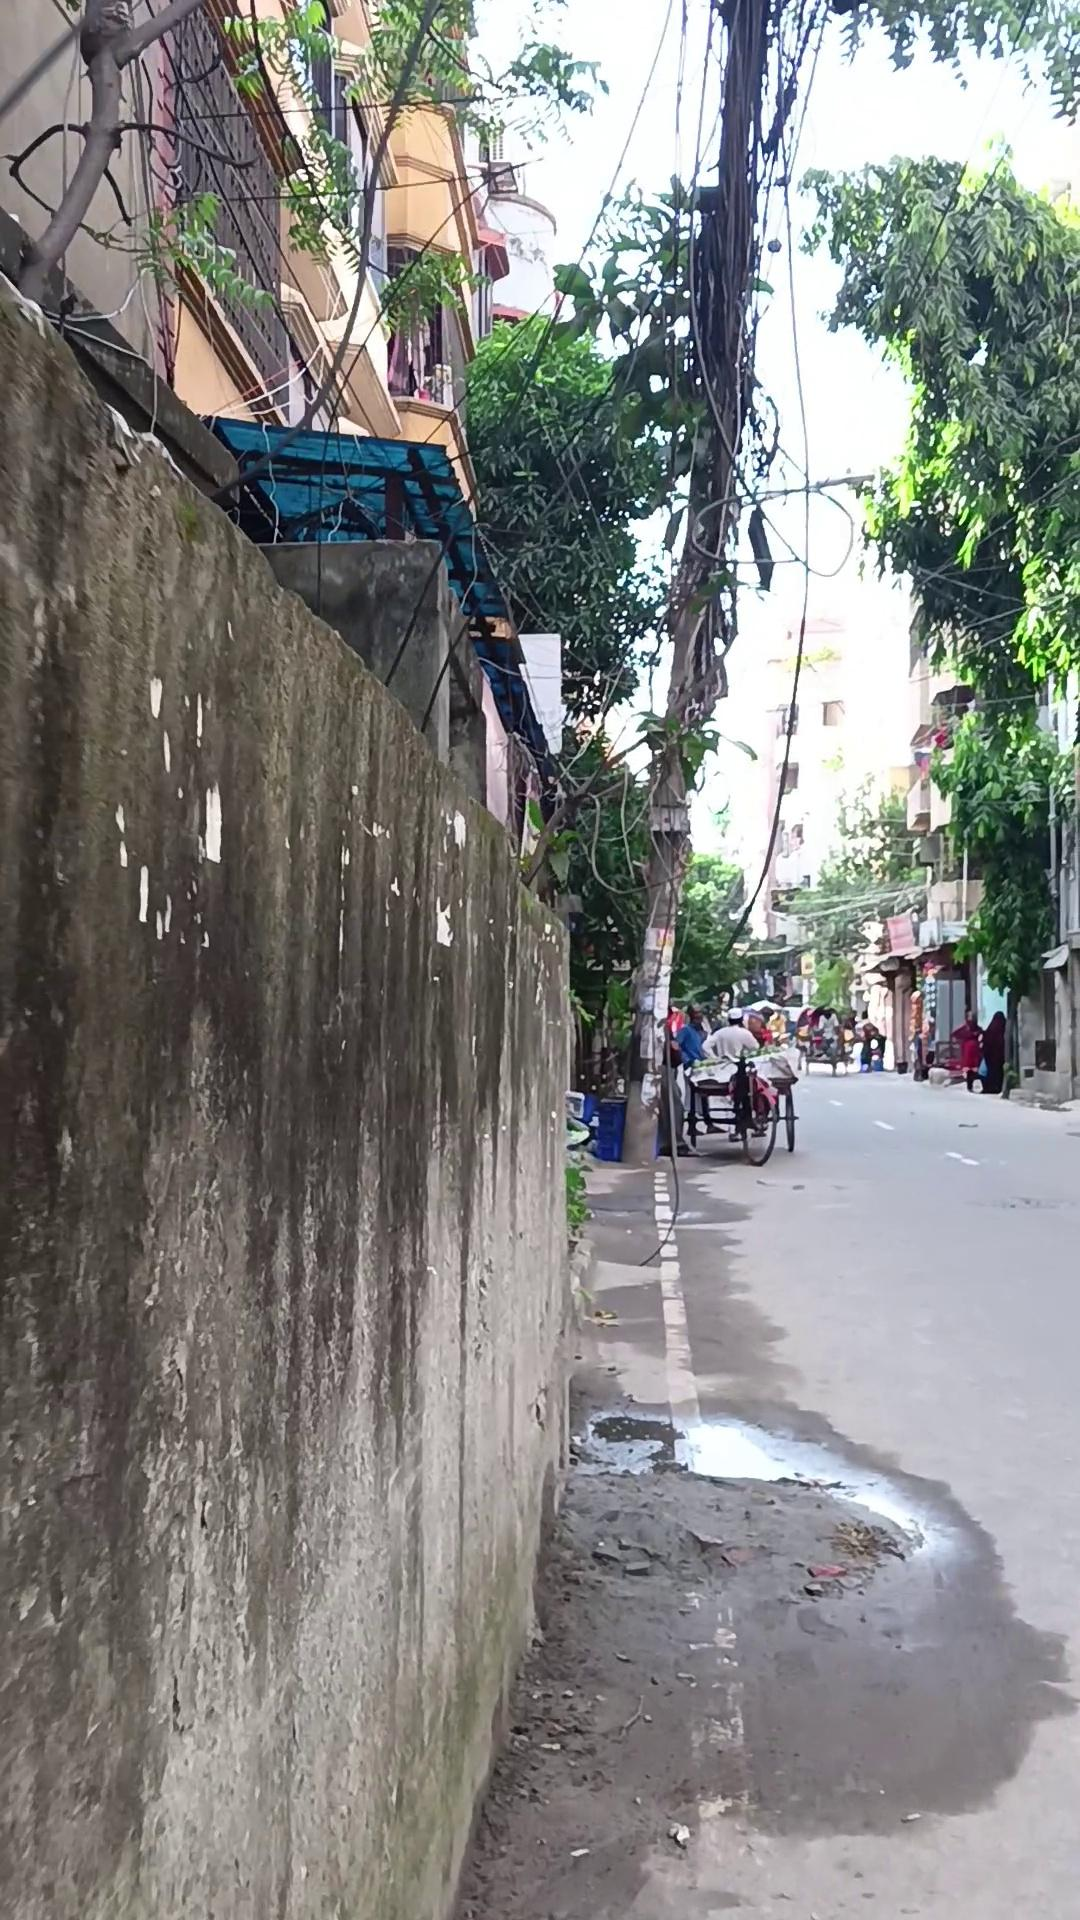Cat: (593, 1095, 626, 1160)
Dog: (613, 1, 773, 1164)
Fence: (676, 1044, 799, 1167)
Obstacle: (0, 266, 575, 1920)
